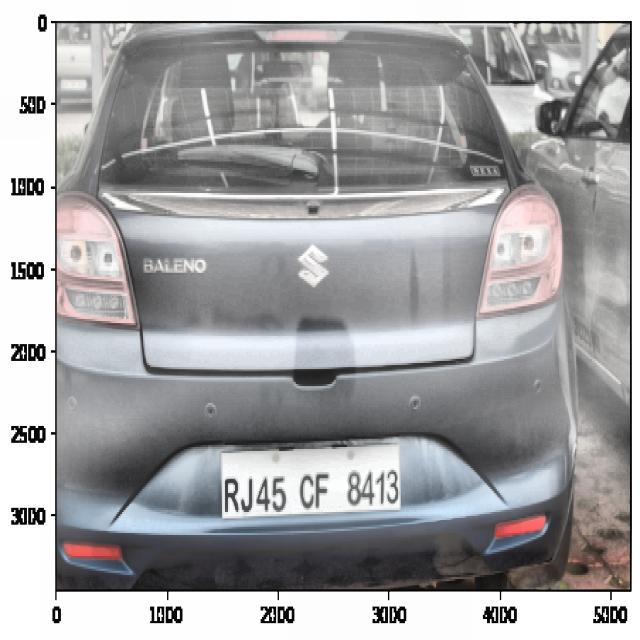license_plate: (222, 454, 400, 512)
